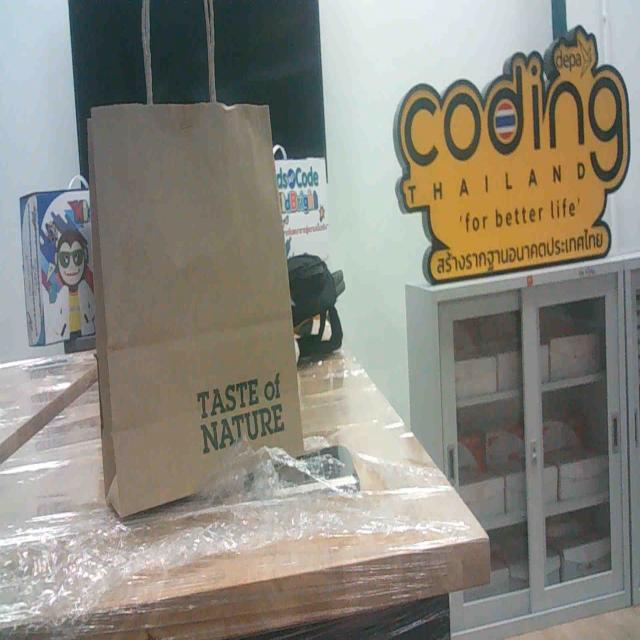bag: (72, 96, 302, 478)
